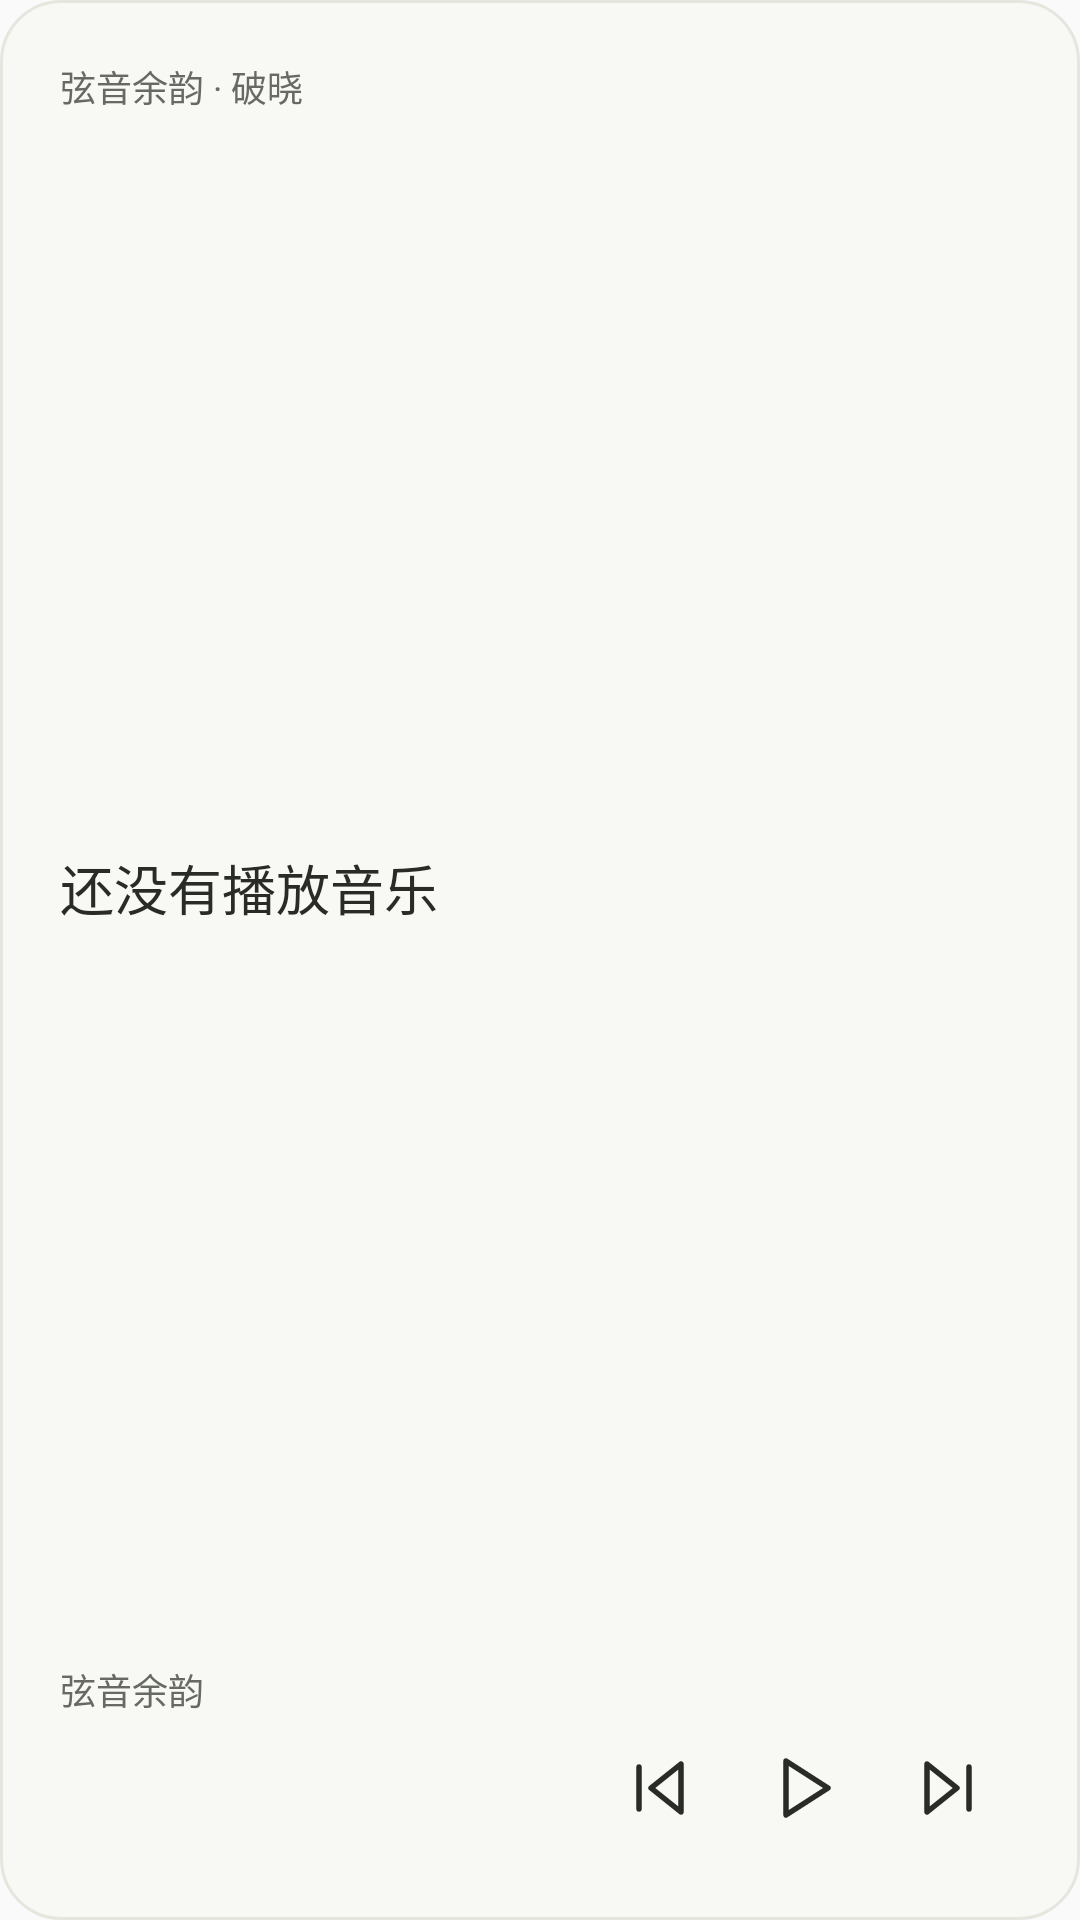

Icons on this 1080*1920 Android screen, each with the point to tap as [x,y]:
上一首: [660,1788]
下一首: [948,1788]
